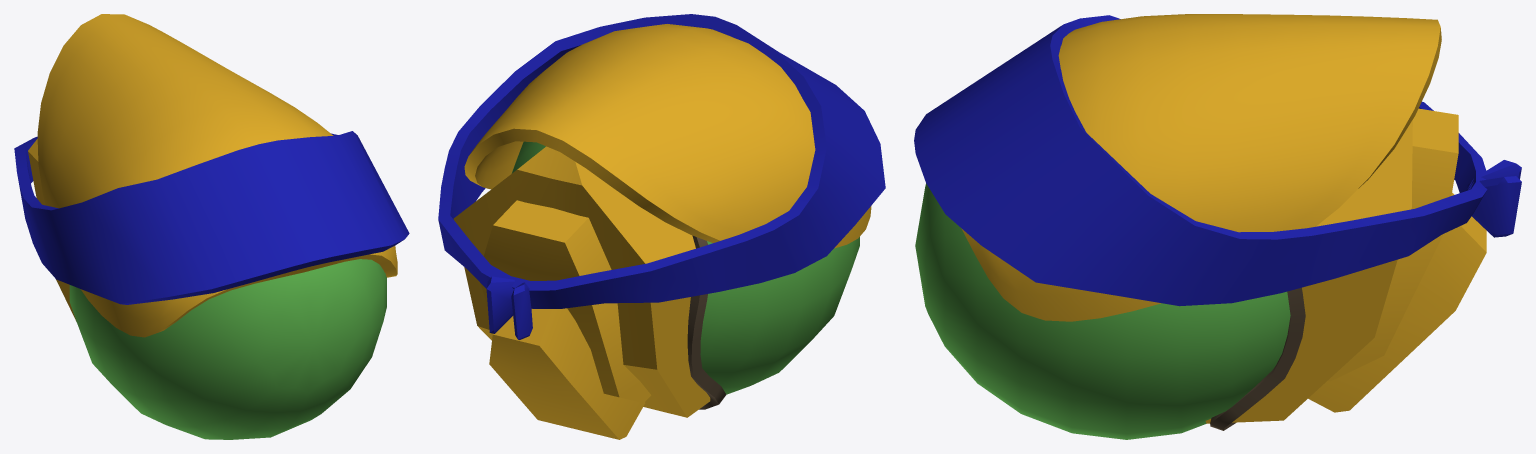
Rendered from VRHead.fbx.
3 views of the same model, side by side, from view 1: azimuth 30°, elevation 25°; view 2: azimuth 150°, elevation 25°; view 3: azimuth 270°, elevation 25° (orthographic). The views are drawn at different scales.
Visible parts, largest first — view 1: Sphere.002; view 2: Sphere.002; view 3: Sphere.002.
Boxes of the visible parts, x1=… form: Sphere.002: x1=14, y1=14, x2=409, y2=439; Sphere.002: x1=438, y1=14, x2=885, y2=439; Sphere.002: x1=914, y1=14, x2=1521, y2=439.
Size of the model in its own units: 31.14 by 31.62 by 43.84.
